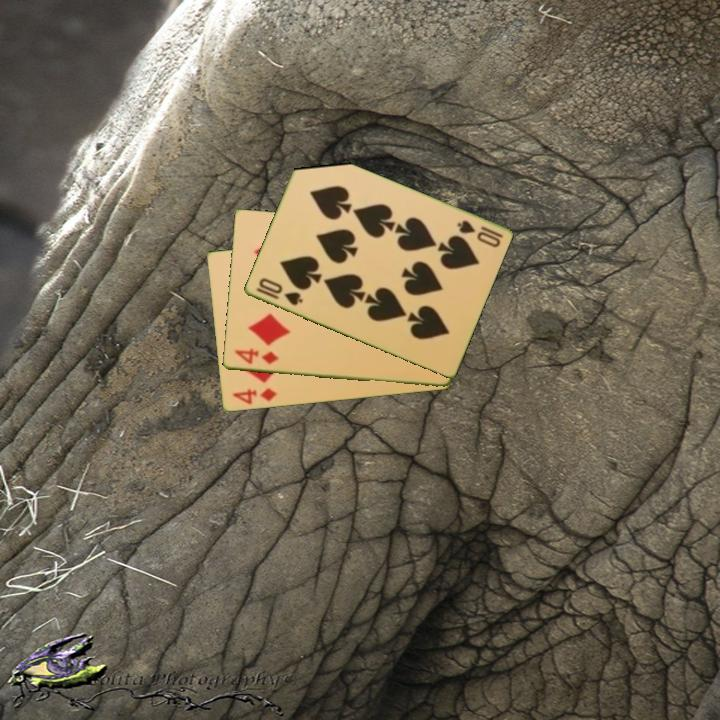10s: (252, 274, 305, 308), (453, 217, 506, 251)
4d: (229, 385, 280, 407), (231, 345, 282, 367)
